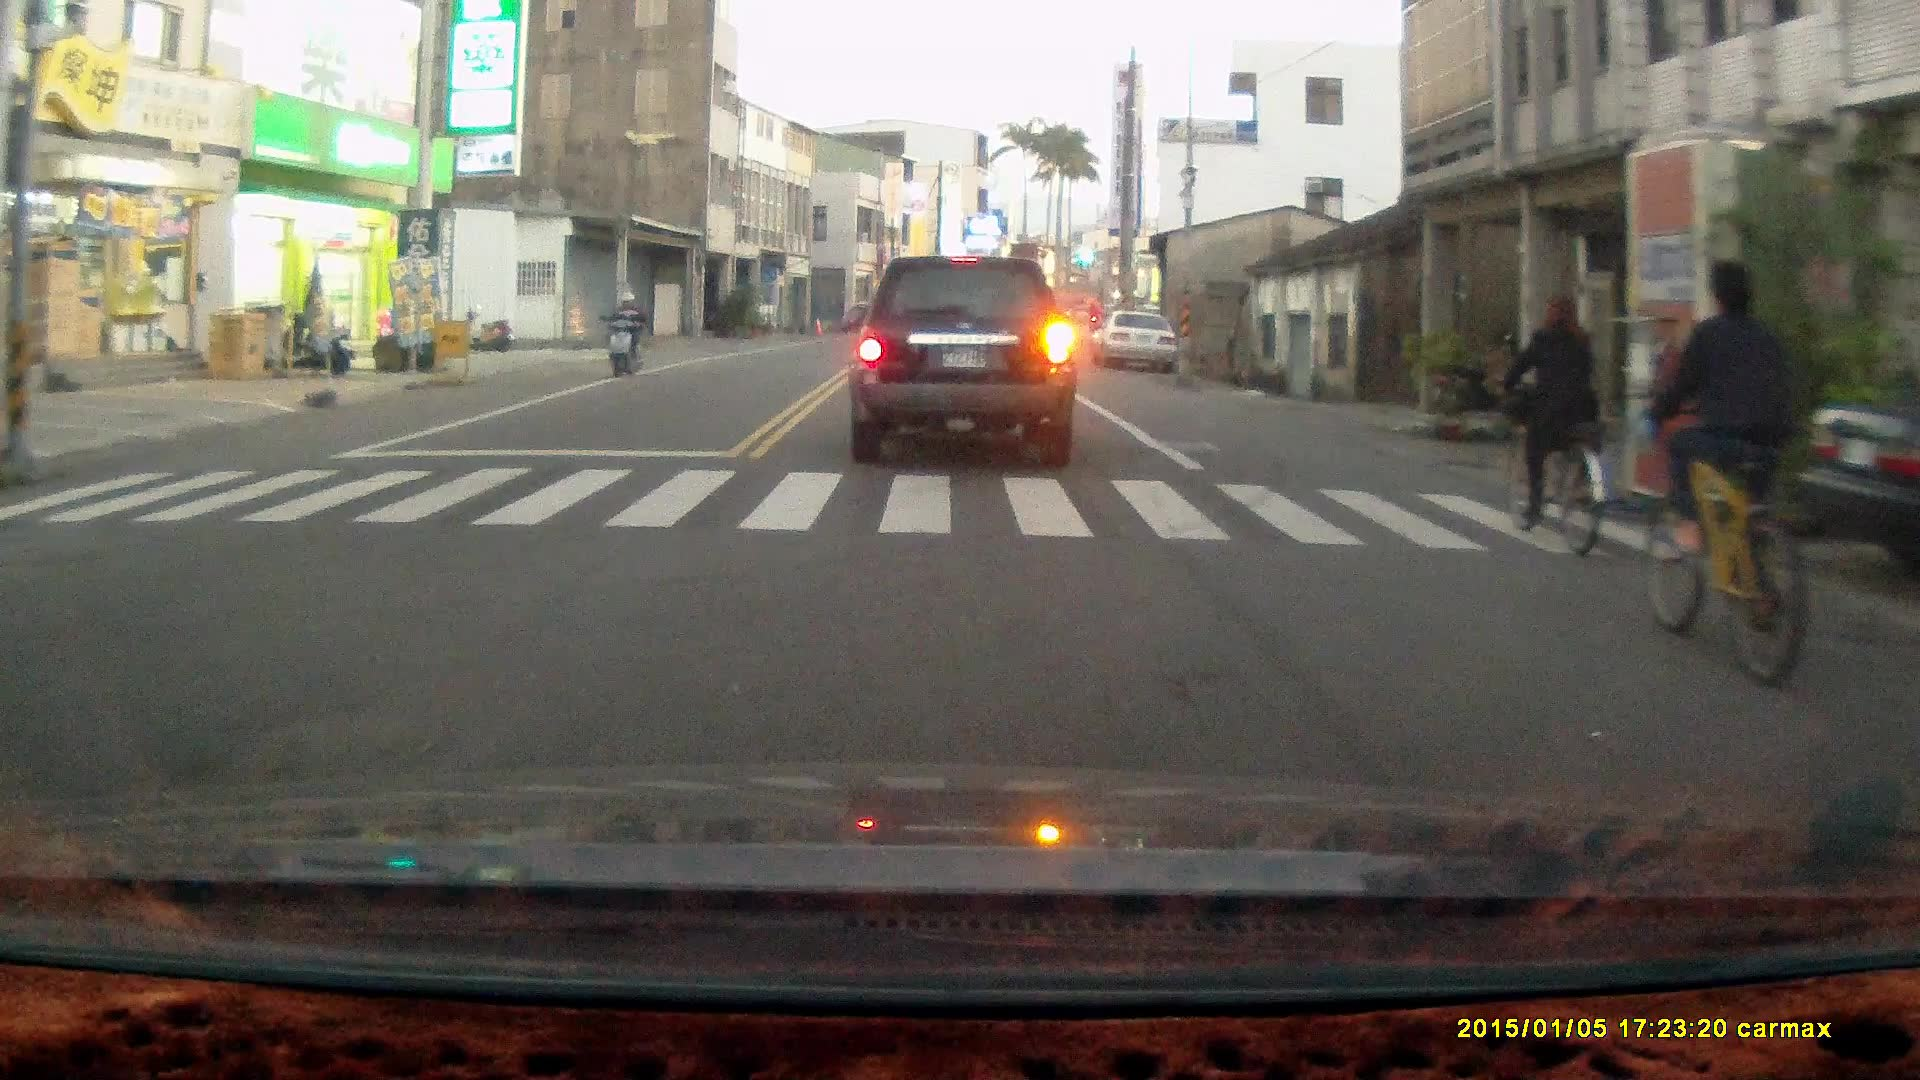rider: (1637, 253, 1820, 690), (1486, 285, 1612, 557), (600, 285, 645, 378)
vehicle: (851, 251, 1084, 465), (1796, 397, 1920, 559), (1098, 313, 1180, 372)
